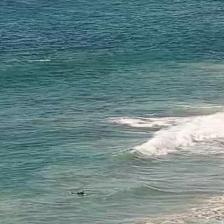surfer: (70, 190, 86, 195)
